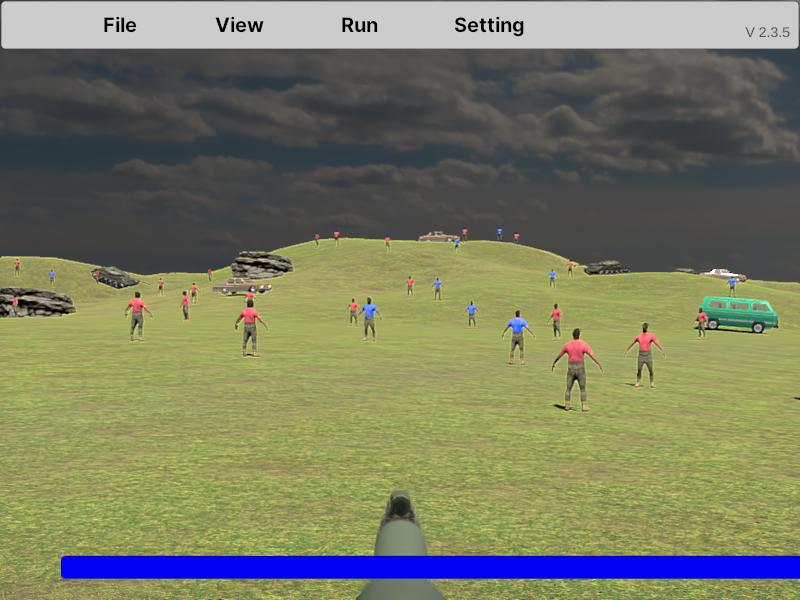Human: (551, 327, 602, 412), (625, 322, 665, 388), (235, 299, 268, 357), (502, 310, 536, 365), (124, 291, 154, 341), (356, 297, 381, 343)
Tank: (87, 265, 145, 289)
car: (698, 297, 779, 334), (216, 277, 270, 296)
